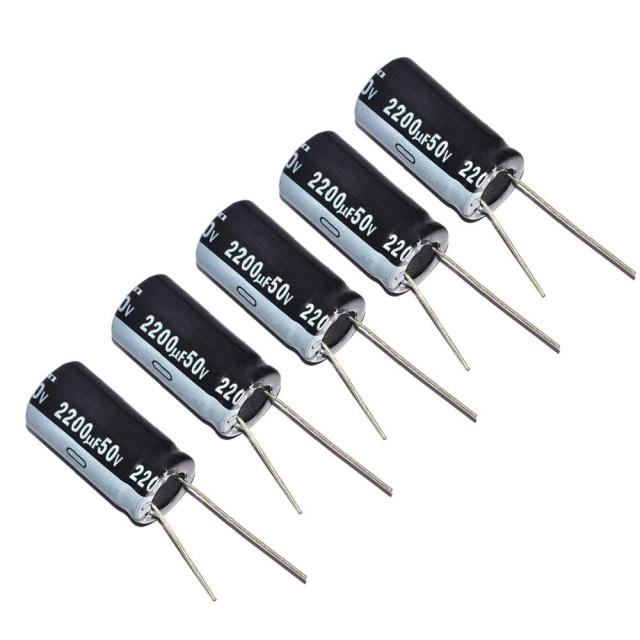Capacitor: (26, 361, 306, 600), (355, 58, 635, 296), (196, 200, 476, 419), (279, 131, 449, 294), (111, 275, 280, 437)
